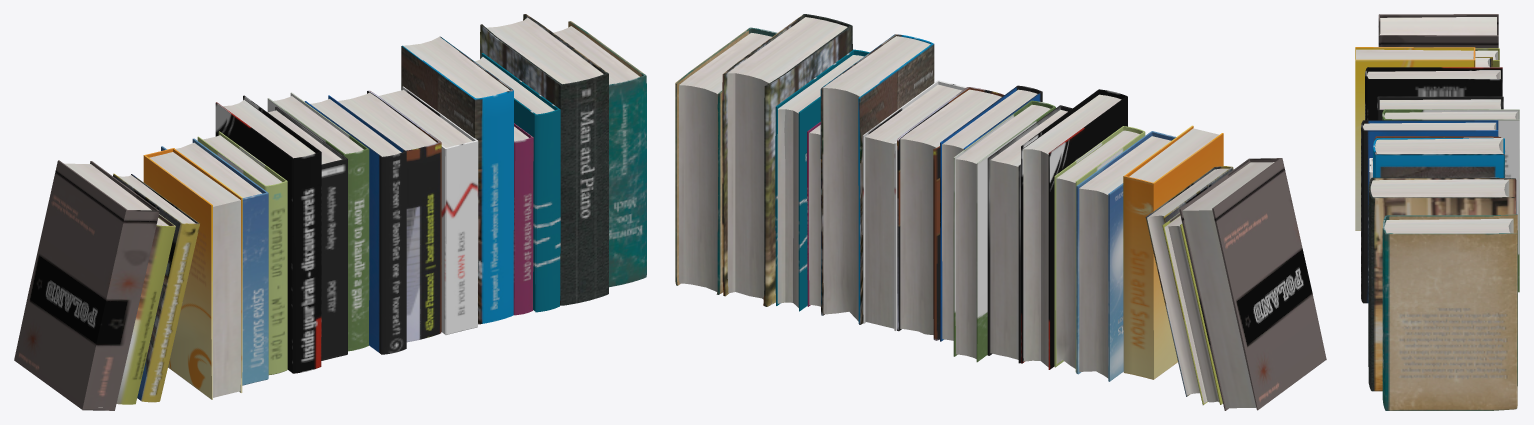
File: AIUE_V01_004_librarybooks_01.FBX
3 renders of one model, left to right at view 1: azimuth 30°, elevation 25°; view 2: azimuth 150°, elevation 25°; view 3: azimuth 270°, elevation 25°, orthographic. The views are drawn at different scales.
Visible parts, largest first — view 1: AIUE_V01_004_librarybooks_01; view 2: AIUE_V01_004_librarybooks_01; view 3: AIUE_V01_004_librarybooks_01.
Boxes of the visible parts, left/top/right/bottom form: AIUE_V01_004_librarybooks_01: left=14, top=14, right=646, bottom=410; AIUE_V01_004_librarybooks_01: left=675, top=14, right=1326, bottom=410; AIUE_V01_004_librarybooks_01: left=1355, top=14, right=1519, bottom=410.
Bounding box in the file's own units: 76.25 × 21.82 × 28.98.
